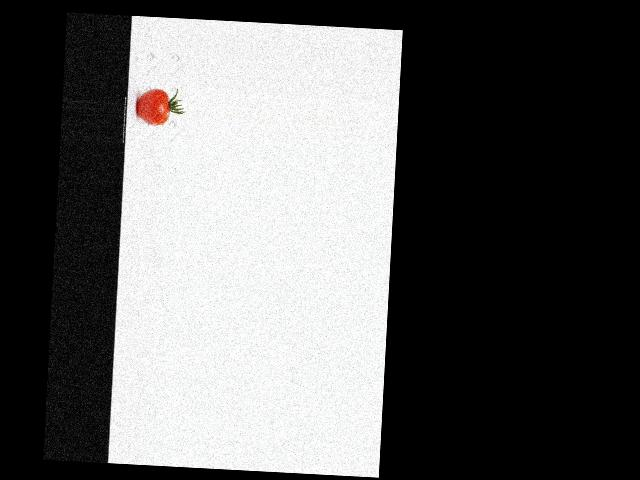tomato: (136, 87, 170, 125)
